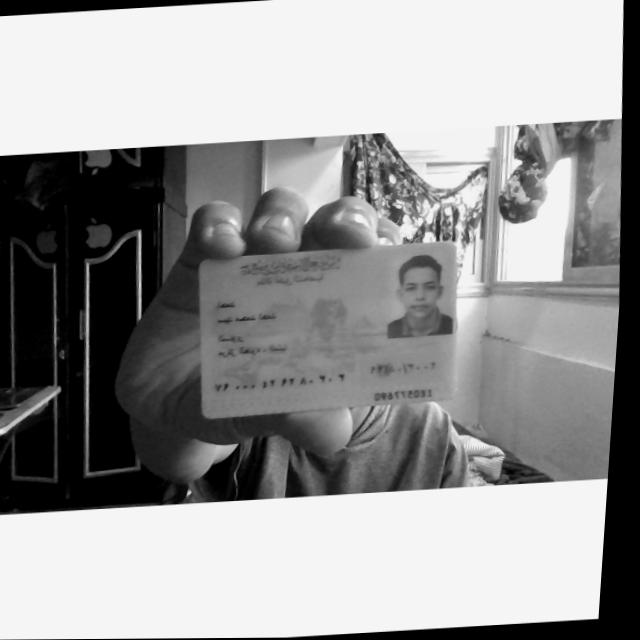front: (199, 241, 457, 419)
